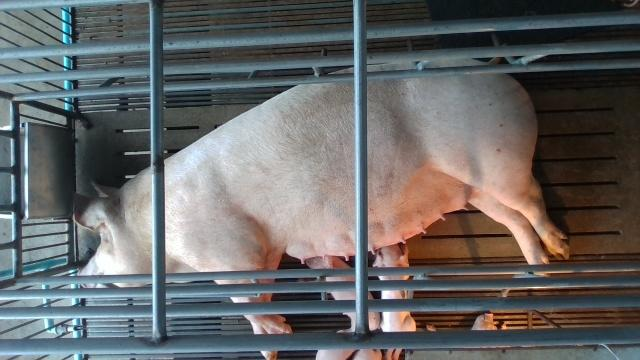piglet: (308, 256, 381, 332), (372, 241, 418, 329), (426, 312, 505, 330), (349, 346, 405, 360), (313, 346, 357, 360)
sow-sleep-lactate: (72, 56, 571, 360)
